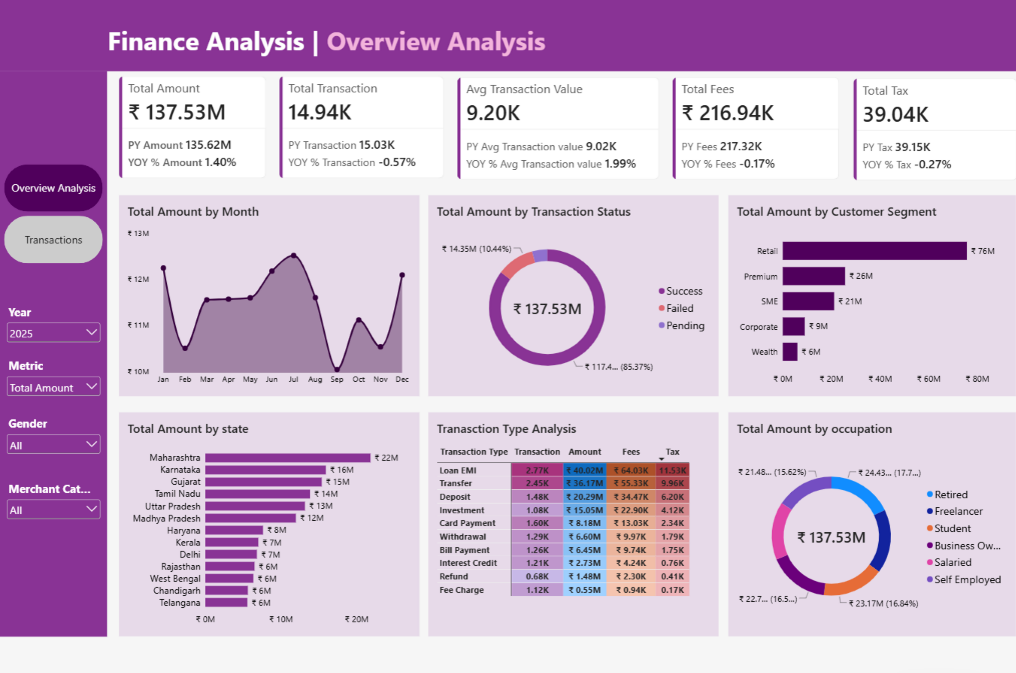

What the dashboard file says about the page in this screenshot:
{"tool":"powerbi","page":{"name":"Overview Analysis","canvas":[1920,1280],"ordinal":0},"visuals":[{"type":"shape","box":[0,0,1920.4,133.8],"z":0},{"type":"cardVisual","fields":{"Data":["finance_transactions.Total Amount"]},"box":[222.3,144.1,275.8,191.4],"z":1000},{"type":"shape","box":[0,133,200.7,1061.3],"z":2000},{"type":"slicer","fields":{"Values":["calendar table.Date.Variation.Date Hierarchy.Year"]},"box":[8.2,570.2,185.2,74.1],"z":3000},{"type":"cardVisual","fields":{"Data":["calendar table.Total Transaction"]},"box":[522.8,144.1,308.7,191.4],"z":4000},{"type":"cardVisual","fields":{"Data":["calendar table.Avg Transaction Value"]},"box":[856.3,146.1,378.7,191.4],"z":5000},{"type":"cardVisual","fields":{"Data":["calendar table.Total Fees"]},"box":[1259.7,146.1,312.9,191.4],"z":6000},{"type":"cardVisual","fields":{"Data":["calendar table.Total Tax"]},"box":[1599.3,148.2,306.7,191.4],"z":7000},{"type":"textbox","box":[201.7,43.2,1130,70],"z":8000},{"type":"slicer","fields":{"Values":["Metric.Metric"]},"box":[8.2,671,185.2,100.9],"z":9000},{"type":"shape","box":[222.4,367.5,563.3,377.1],"z":10000},{"type":"shape","box":[1366,773.6,539.1,420.7],"z":11000},{"type":"shape","box":[222.4,773.6,563.3,420.7],"z":12000},{"type":"shape","box":[802.6,773.6,544,420.7],"z":13000},{"type":"shape","box":[802.6,367.5,544,377.1],"z":14000},{"type":"shape","box":[1366,367.5,539.1,377.1],"z":15000},{"type":"areaChart","fields":{"Category":["calendar table.Monthname"],"Y":["finance_transactions.Total Amount"]},"box":[222.4,367.5,563.3,377.1],"z":16000},{"type":"donutChart","fields":{"Category":["finance_transactions.transaction_status"],"Y":["finance_transactions.Total Amount"]},"box":[802.6,367.5,544,377.1],"z":17000},{"type":"clusteredBarChart","fields":{"Category":["customers.customer_segment"],"Y":["finance_transactions.Total Amount"]},"box":[1366,367.5,539.1,377.1],"z":18000},{"type":"clusteredBarChart","fields":{"Category":["customers.state"],"Y":["finance_transactions.Total Amount"]},"box":[222.4,773.6,563.3,420.7],"z":19000},{"type":"slicer","fields":{"Values":["customers.gender"]},"box":[8.2,780.1,185.2,100.9],"z":20000},{"type":"slicer","fields":{"Values":["finance_transactions.merchant_category"]},"box":[8.2,901.5,185.2,100.9],"z":21000},{"type":"pivotTable","title":"Tranasction Type Analysis","fields":{"Rows":["finance_transactions.transaction_type"],"Values":["calendar table.Total Transaction","finance_transactions.Total Amount","calendar table.Total Fees","calendar table.Total Tax"]},"box":[802.6,773.6,544,420.7],"z":22000},{"type":"donutChart","fields":{"Category":["customers.occupation"],"Y":["finance_transactions.Total Amount"]},"box":[1366,773.6,539.1,420.7],"z":23000},{"type":"pageNavigator","box":[8.2,308.7,185.2,187.3],"z":24000}]}

Visuals, with their boxes in screenshot pixels (x1, y1, x2, y2), scaled from the page's 1920x1280 canvas onto the 1016x673 screenshot:
shape: [0, 0, 1015, 70]
cardVisual - finance_transactions.Total Amount: [118, 76, 264, 176]
shape: [0, 70, 106, 628]
slicer - calendar table.Date.Variation.Date Hierarchy.Year: [4, 300, 102, 339]
cardVisual - calendar table.Total Transaction: [277, 76, 440, 176]
cardVisual - calendar table.Avg Transaction Value: [453, 77, 654, 177]
cardVisual - calendar table.Total Fees: [667, 77, 832, 177]
cardVisual - calendar table.Total Tax: [846, 78, 1009, 179]
textbox: [107, 23, 705, 60]
slicer - Metric.Metric: [4, 353, 102, 406]
shape: [118, 193, 416, 391]
shape: [723, 407, 1008, 628]
shape: [118, 407, 416, 628]
shape: [425, 407, 713, 628]
shape: [425, 193, 713, 391]
shape: [723, 193, 1008, 391]
areaChart - calendar table.Monthname x finance_transactions.Total Amount: [118, 193, 416, 391]
donutChart - finance_transactions.transaction_status x finance_transactions.Total Amount: [425, 193, 713, 391]
clusteredBarChart - customers.customer_segment x finance_transactions.Total Amount: [723, 193, 1008, 391]
clusteredBarChart - customers.state x finance_transactions.Total Amount: [118, 407, 416, 628]
slicer - customers.gender: [4, 410, 102, 463]
slicer - finance_transactions.merchant_category: [4, 474, 102, 527]
"Tranasction Type Analysis" pivotTable: [425, 407, 713, 628]
donutChart - customers.occupation x finance_transactions.Total Amount: [723, 407, 1008, 628]
pageNavigator: [4, 162, 102, 261]
